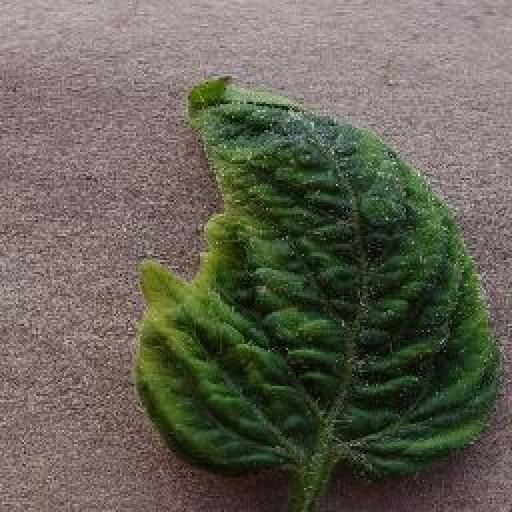Yellow Leaf Curl Virus: (136, 72, 504, 483)
